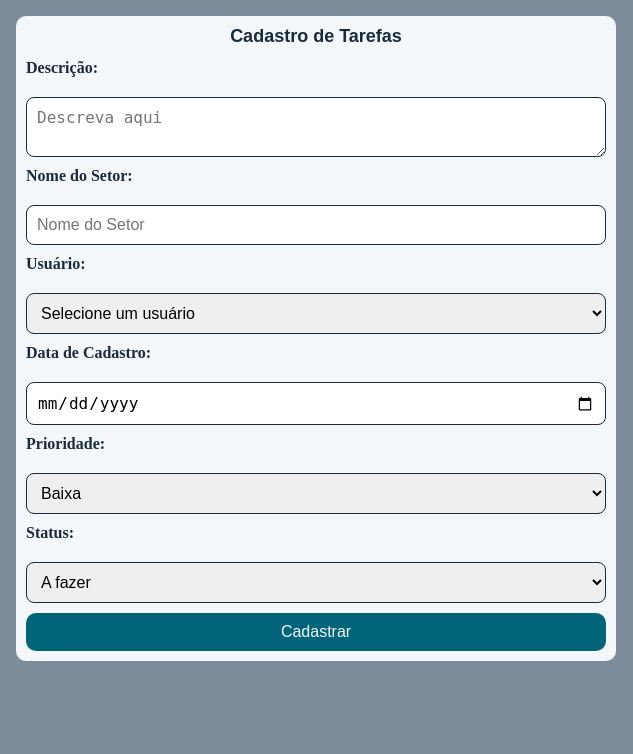
Test: Cadastro de Tarefas › deve mostrar erros quando campos estiverem vazios
Click the button "Cadastrar".
click(316, 632)  # box [26, 613, 606, 651]
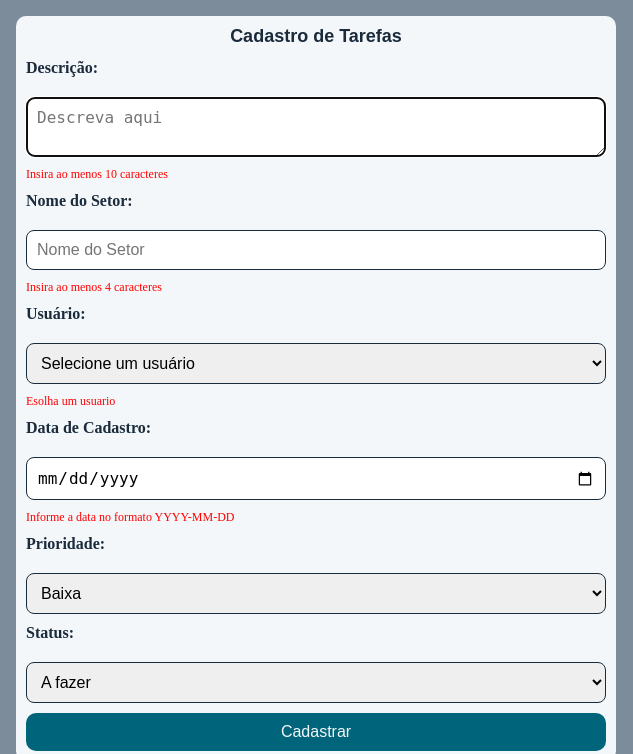
Expected: the text "Insira ao menos 10 caracteres" is shown, [26, 167, 168, 181]
Expected: the text "Insira ao menos 4 caracteres" is shown, [26, 280, 162, 294]
Expected: the text "Esolha um usuario" is shown, [26, 394, 115, 408]
